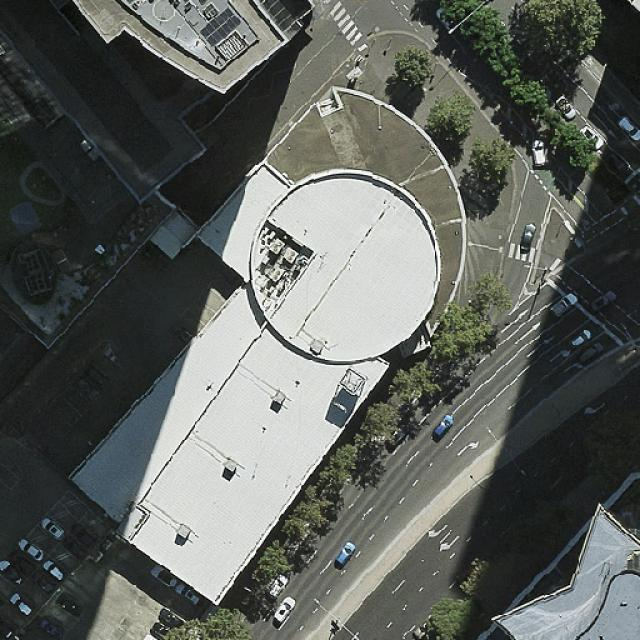Bike-Symbols: (580, 217, 590, 229)
